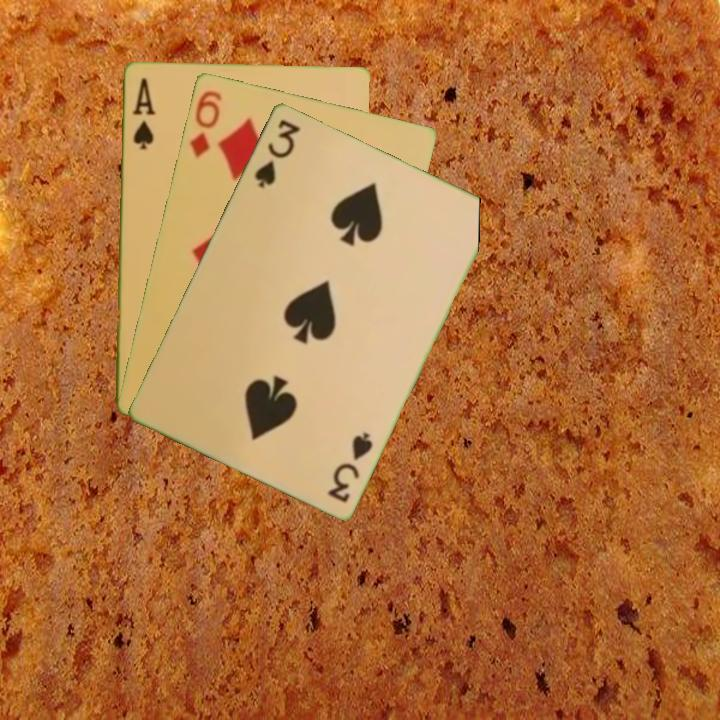3s: (324, 427, 376, 505), (250, 115, 303, 190)
6d: (186, 86, 224, 160)
As: (129, 74, 158, 152)
